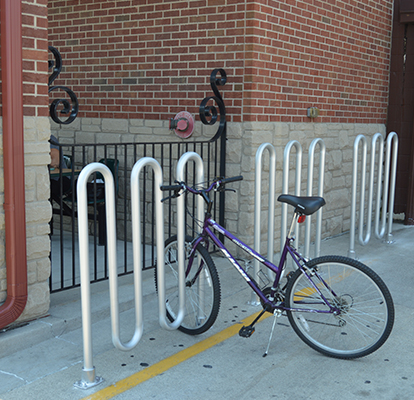Bicycle: (160, 175, 398, 360)
